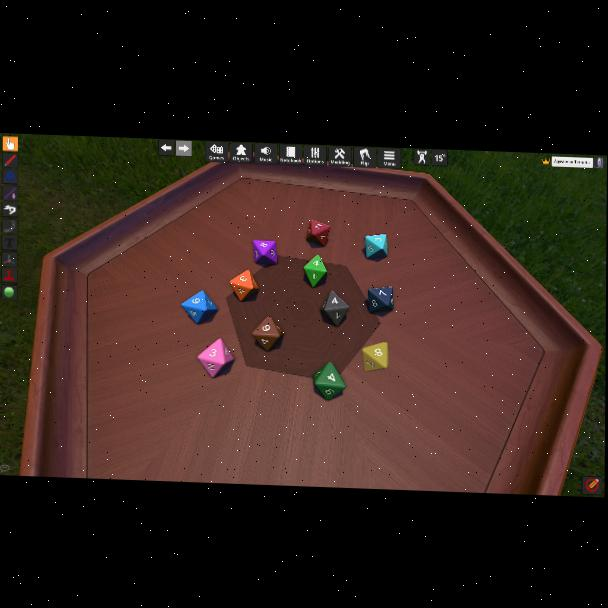d8: (197, 337, 234, 377), (182, 290, 217, 325), (314, 362, 345, 400), (252, 315, 283, 351), (320, 290, 349, 327), (229, 270, 259, 303), (362, 341, 389, 373), (302, 254, 326, 287), (367, 286, 393, 314), (305, 220, 328, 247), (253, 239, 277, 264), (364, 234, 387, 260)
